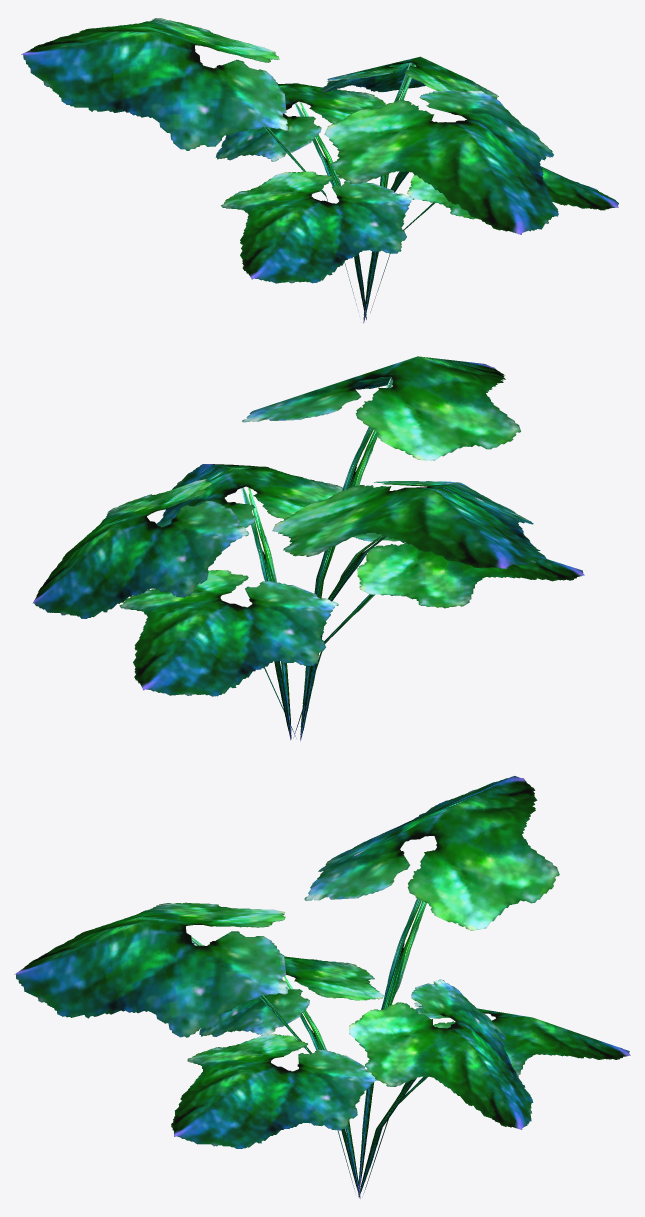
File: LVL_RIV_WIDELEAF.fbx
The picture shows the model from 3 angles, top to bottom: view 1: azimuth 30°, elevation 25°; view 2: azimuth 150°, elevation 25°; view 3: azimuth 270°, elevation 25°; orthographic projection. The views are drawn at different scales.
Parts seen in each view (by area): view 1: LVL_RIV_WIDELEAF; view 2: LVL_RIV_WIDELEAF; view 3: LVL_RIV_WIDELEAF.
Part boxes in pixels (x1=…): LVL_RIV_WIDELEAF: x1=21, y1=18, x2=618, y2=323; LVL_RIV_WIDELEAF: x1=32, y1=356, x2=584, y2=741; LVL_RIV_WIDELEAF: x1=14, y1=776, x2=630, y2=1198.
Size of the model in its own units: 12853 by 6821 by 12348.
1 material, 1 textured.
